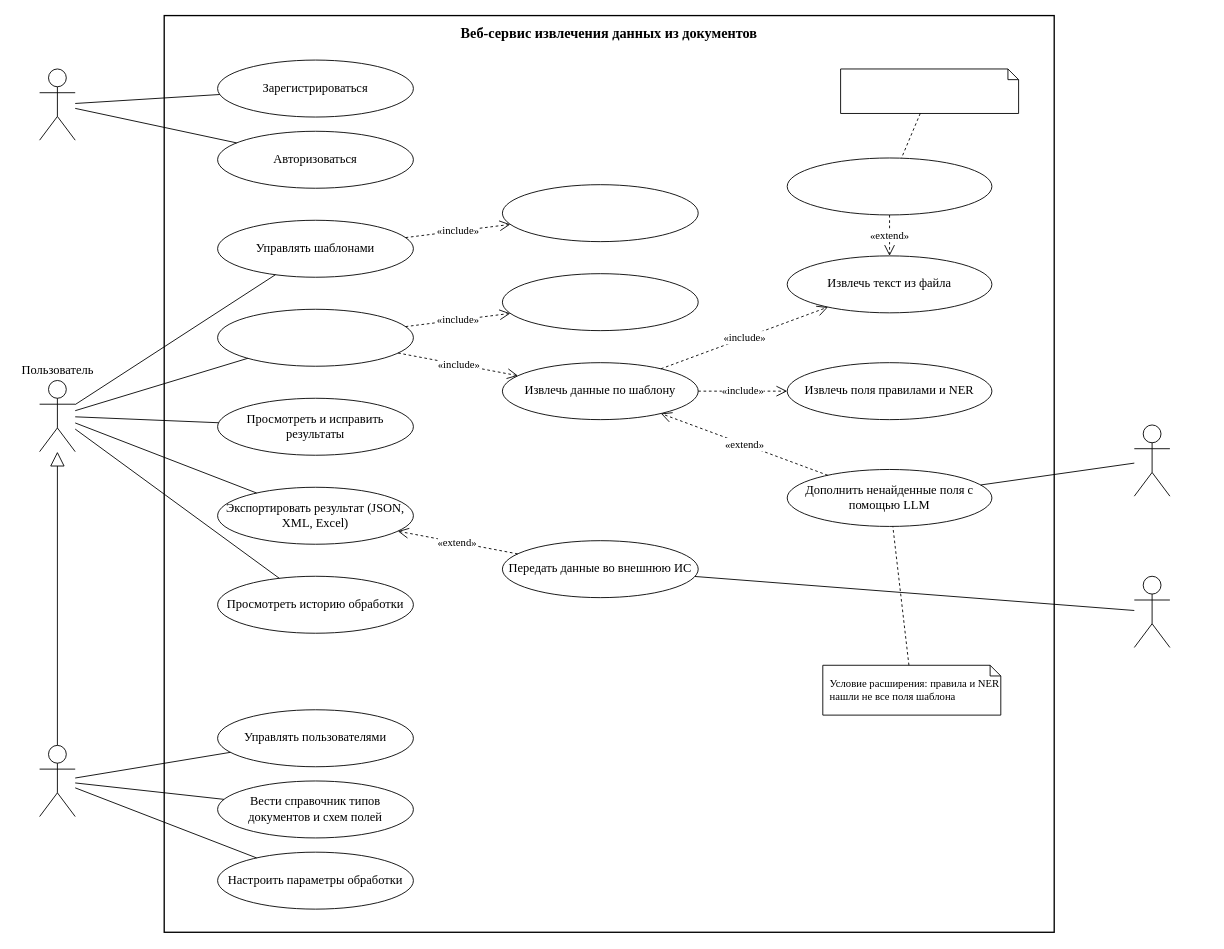
The diagram is 1224 pixels wide and 949 high, and some of its shapes have lost their labels. The shapes that lost their labels are listed below. From the top down, each one's box as (x1, y1, x2, y2) in pixels, then its label:
(39, 68, 75, 140): Гость
(840, 68, 1019, 113): Условие расширения: файл без текстового слоя (скан)
(786, 157, 992, 215): Распознать текст (OCR)
(502, 184, 698, 242): Задать поля шаблона
(502, 273, 698, 331): Проверить формат и размер файла
(217, 308, 413, 366): Загрузить документ
(1133, 424, 1170, 496): LLM-сервис
(1133, 575, 1170, 647): Внешняя учётная ИС
(39, 744, 75, 817): Администратор
